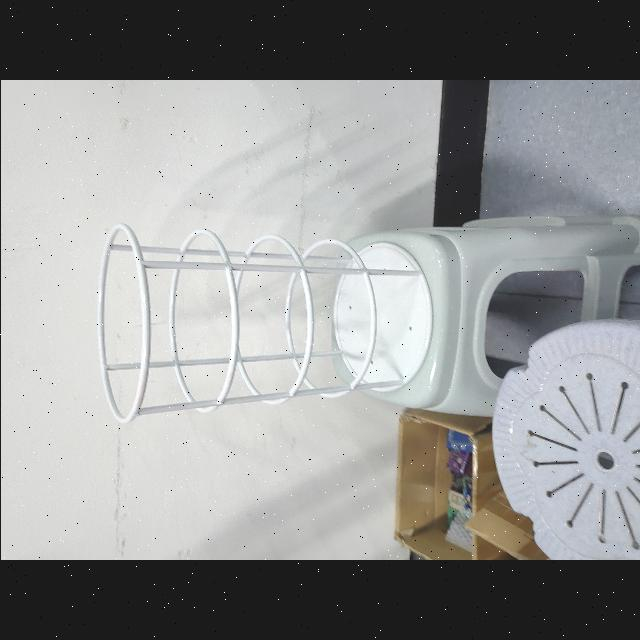S: (92, 220, 440, 430)
